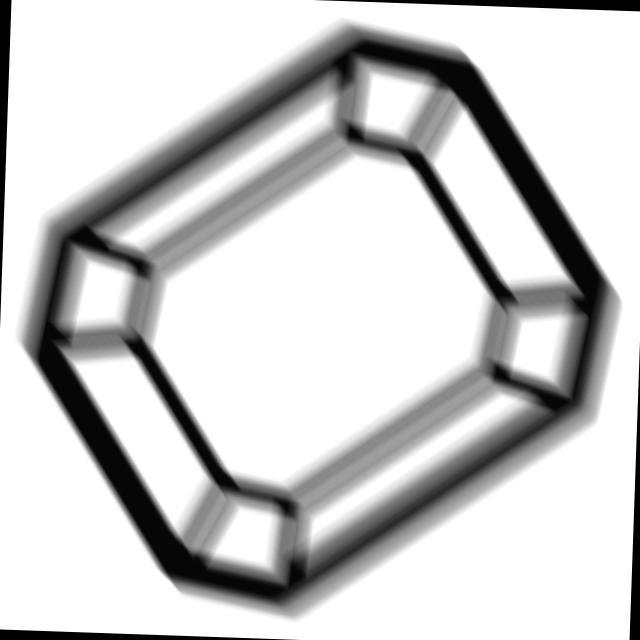emerald: (1, 3, 636, 640)
